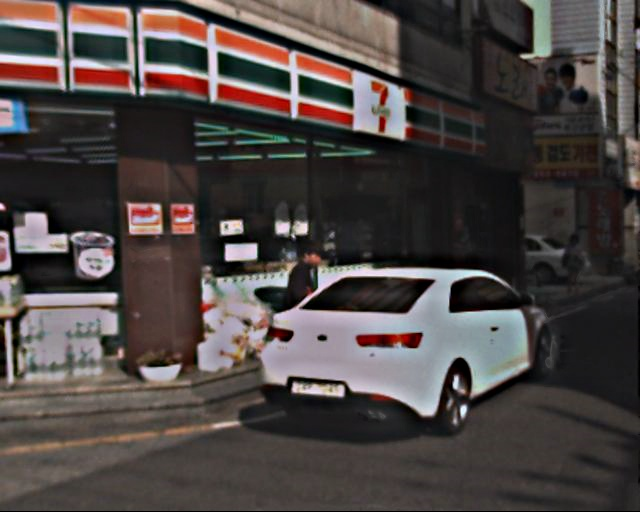person: (284, 230, 341, 370), (562, 231, 597, 301)
